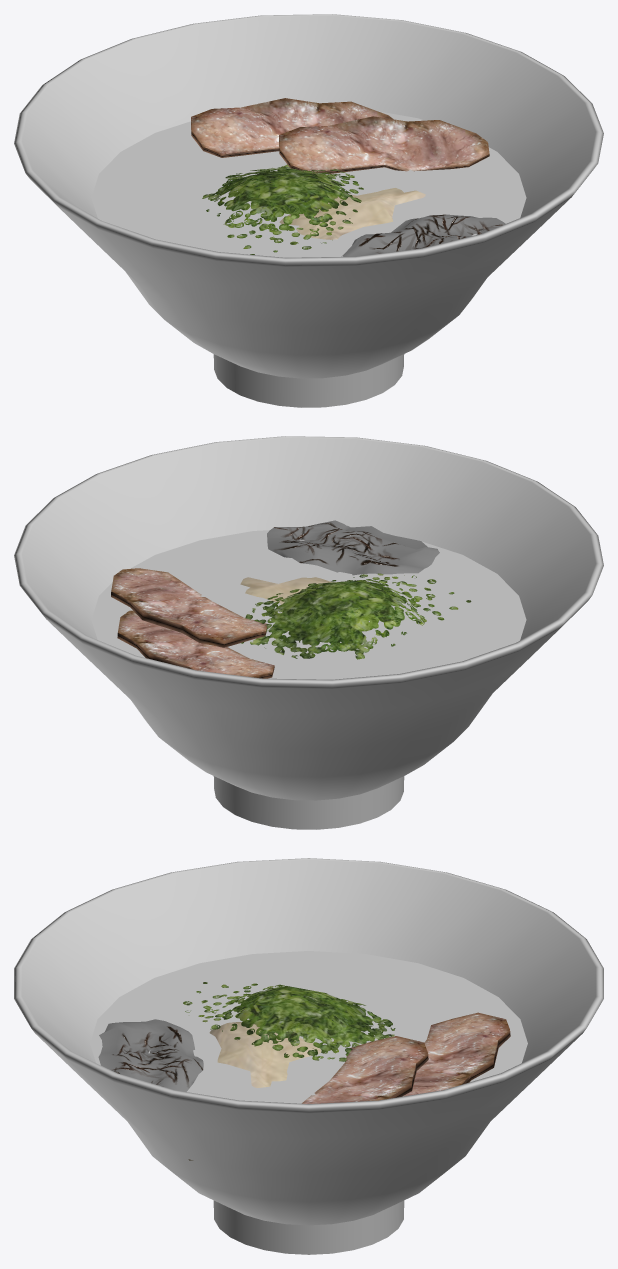
File: BgMD_Nagi_Donburi_01.fbx
The picture shows the model from 3 angles, top to bottom: view 1: azimuth 30°, elevation 25°; view 2: azimuth 150°, elevation 25°; view 3: azimuth 270°, elevation 25°; orthographic projection.
Parts seen in each view (by area): view 1: BgMD_Nagi_Bowl_01, BgMD_Nagi_Soup_01, chashu1, BgMD_Nagi_Negi, chashu, kikurage, BgMD_Nagi_men_01; view 2: BgMD_Nagi_Bowl_01, BgMD_Nagi_Soup_01, BgMD_Nagi_Negi, kikurage, chashu1, chashu, BgMD_Nagi_men_01; view 3: BgMD_Nagi_Bowl_01, BgMD_Nagi_Soup_01, BgMD_Nagi_Negi, kikurage, chashu, chashu1, BgMD_Nagi_men_01.
Part boxes in pixels (x1=…): BgMD_Nagi_Bowl_01: x1=14, y1=14, x2=603, y2=407; BgMD_Nagi_Soup_01: x1=91, y1=111, x2=526, y2=257; chashu1: x1=279, y1=116, x2=489, y2=174; BgMD_Nagi_Negi: x1=202, y1=164, x2=363, y2=254; chashu: x1=191, y1=98, x2=393, y2=157; kikurage: x1=342, y1=214, x2=505, y2=256; BgMD_Nagi_men_01: x1=279, y1=188, x2=425, y2=239; BgMD_Nagi_Bowl_01: x1=14, y1=436, x2=603, y2=829; BgMD_Nagi_Soup_01: x1=91, y1=530, x2=526, y2=679; BgMD_Nagi_Negi: x1=241, y1=573, x2=471, y2=659; kikurage: x1=267, y1=520, x2=439, y2=575; chashu1: x1=111, y1=568, x2=267, y2=647; chashu: x1=117, y1=610, x2=274, y2=678; BgMD_Nagi_men_01: x1=240, y1=577, x2=331, y2=612; BgMD_Nagi_Bowl_01: x1=14, y1=858, x2=603, y2=1254; BgMD_Nagi_Soup_01: x1=90, y1=951, x2=527, y2=1103; BgMD_Nagi_Negi: x1=183, y1=982, x2=395, y2=1061; kikurage: x1=98, y1=1019, x2=203, y2=1091; chashu: x1=402, y1=1012, x2=510, y2=1096; chashu1: x1=302, y1=1036, x2=428, y2=1103; BgMD_Nagi_men_01: x1=188, y1=1022, x2=321, y2=1160.
Size of the model in its own units: 19 by 8.2 by 18.86.
